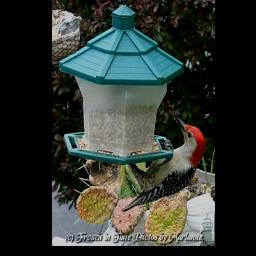Woodpecker: (121, 115, 206, 211)
